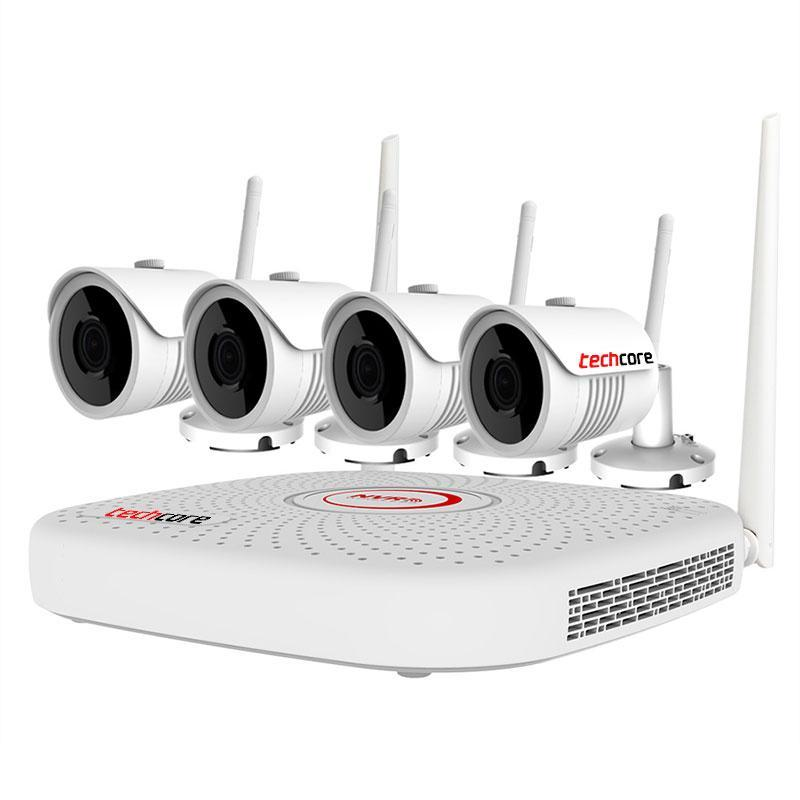CCTV: (46, 135, 716, 491)
